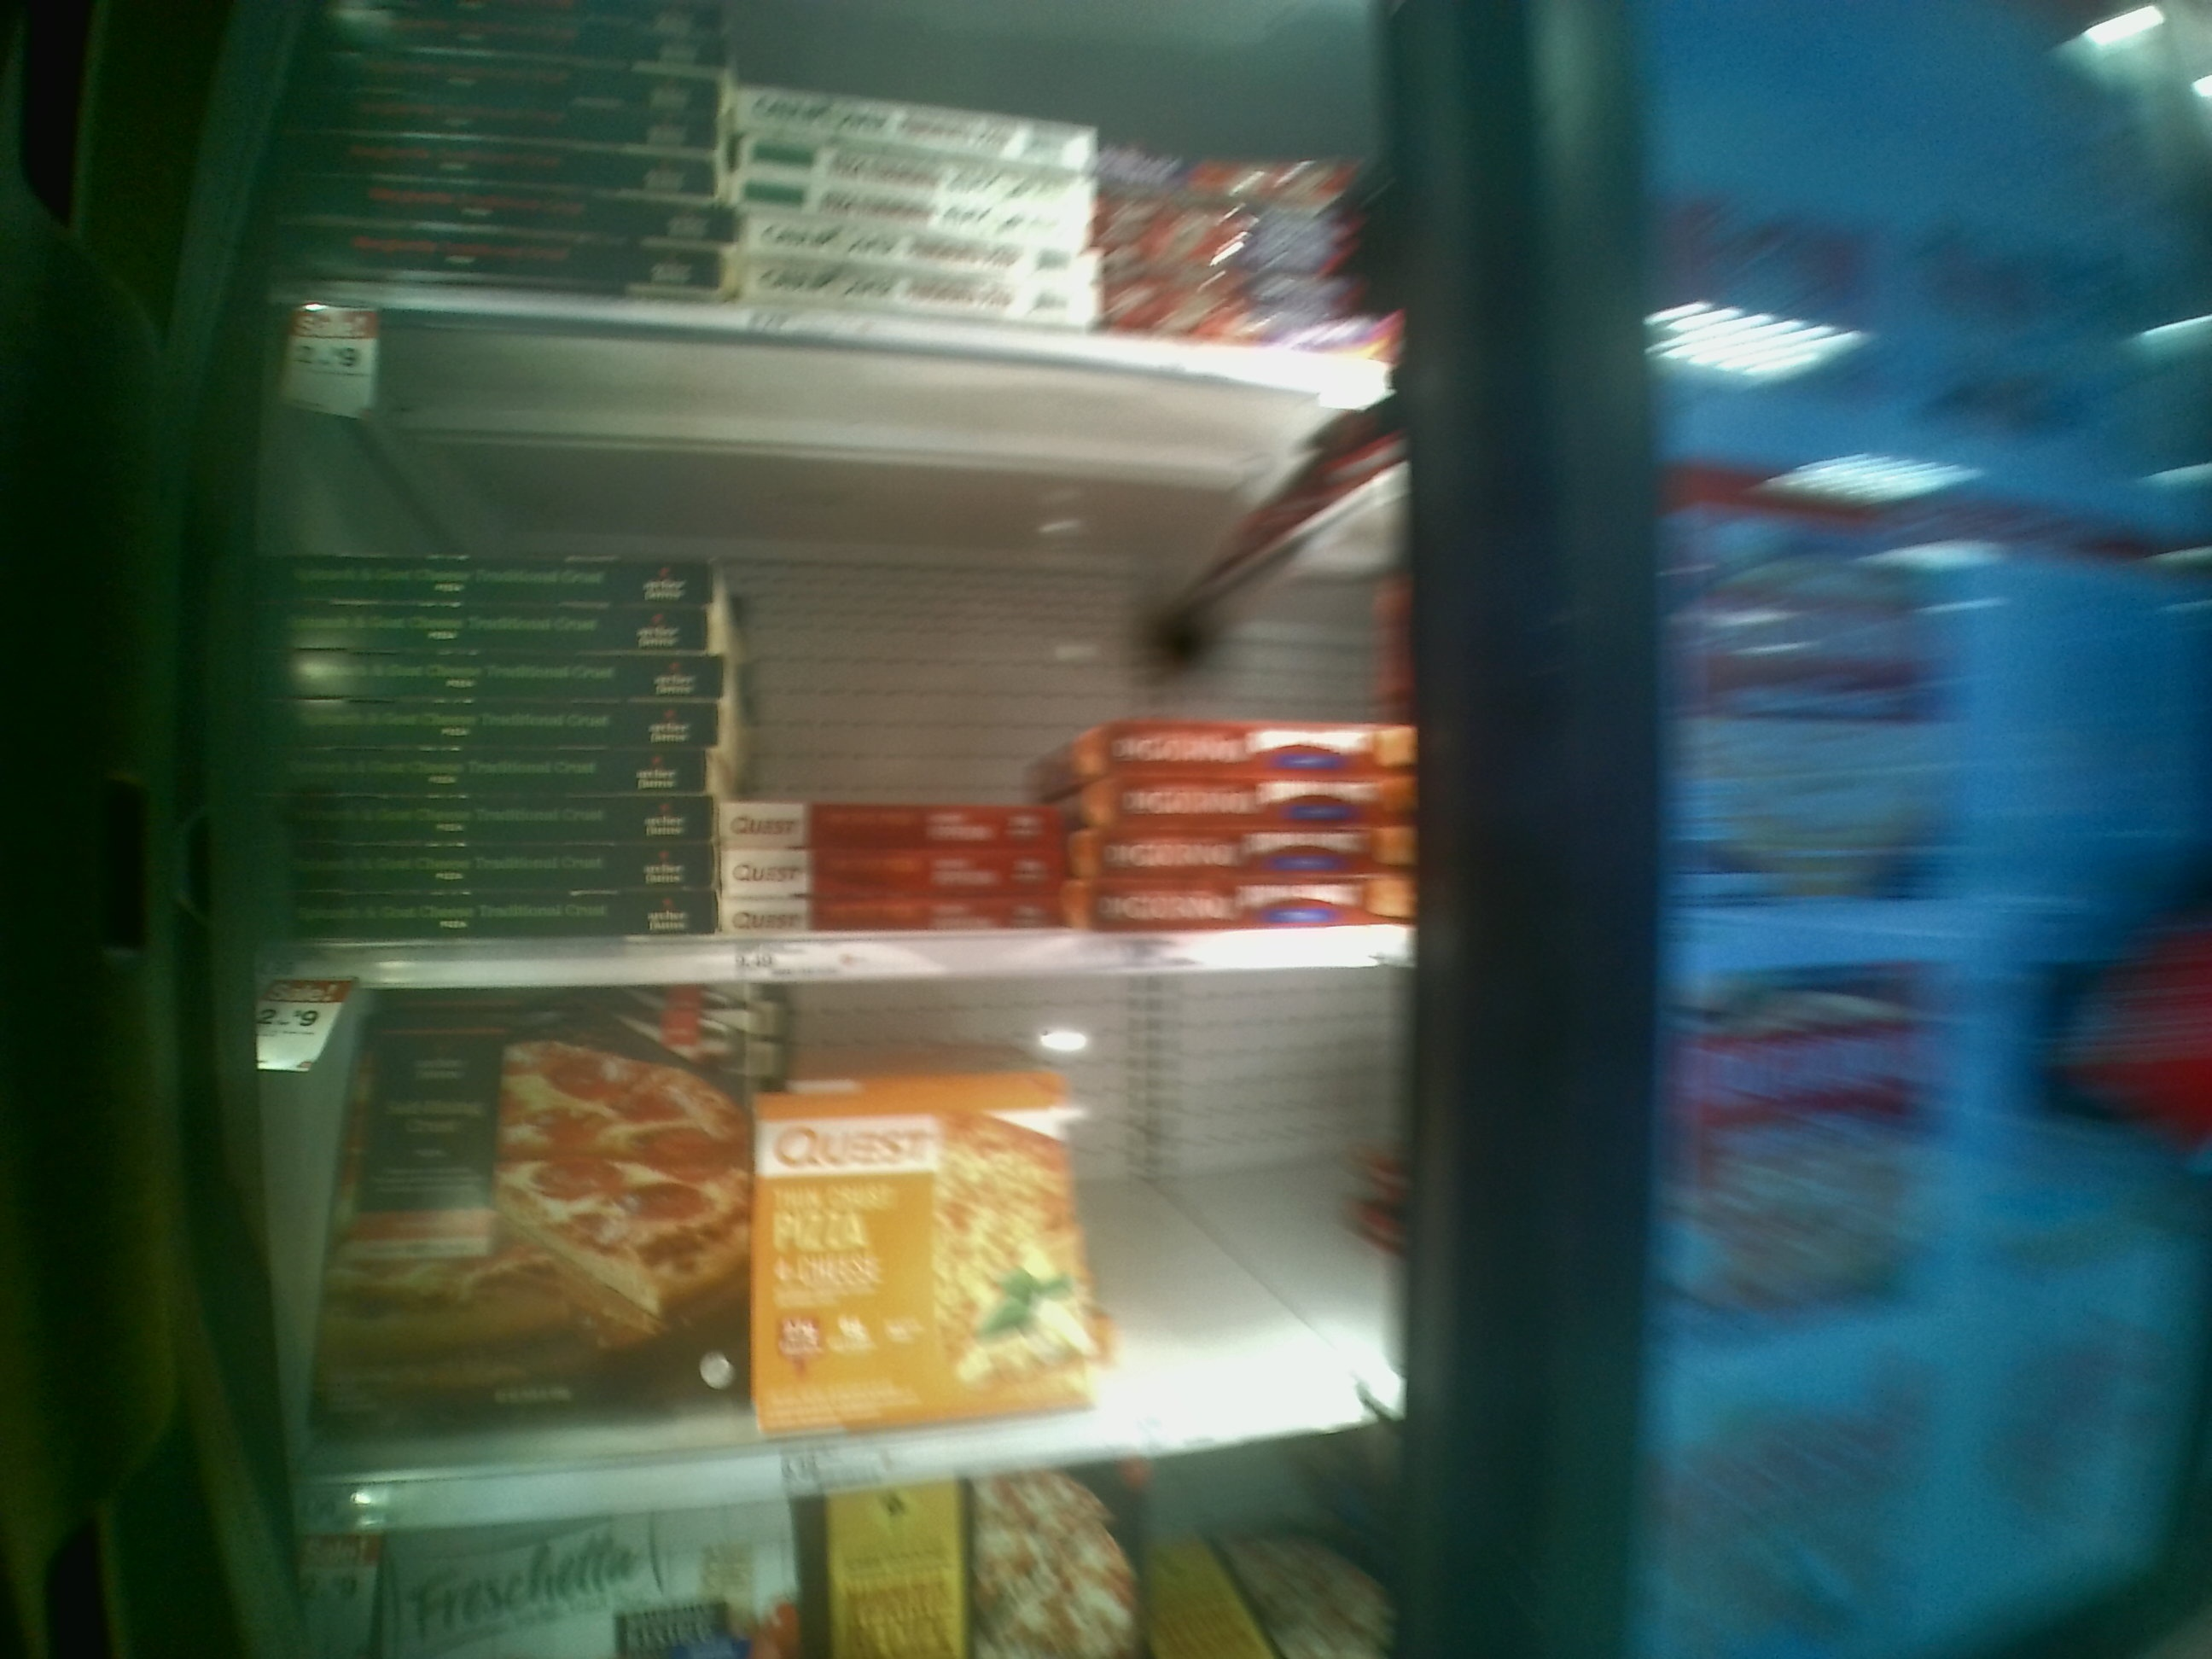shelf: (258, 314, 1423, 981), (251, 981, 1444, 1527)
